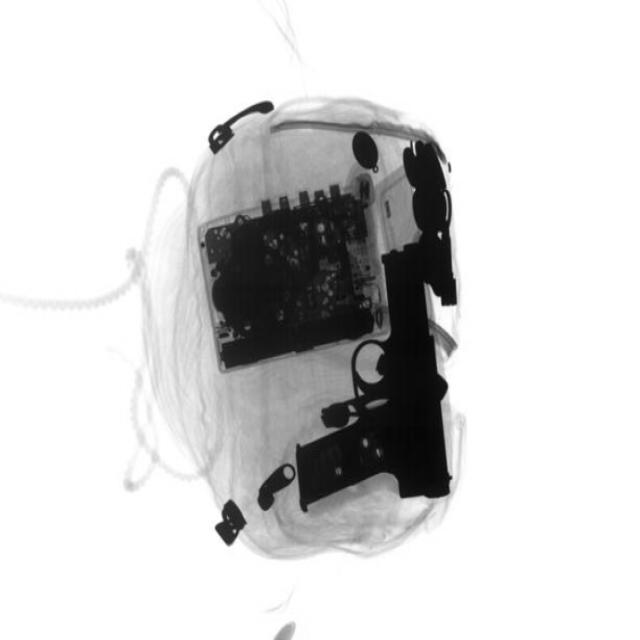GUN: (284, 234, 469, 497), (369, 242, 468, 488), (316, 494, 362, 502)
